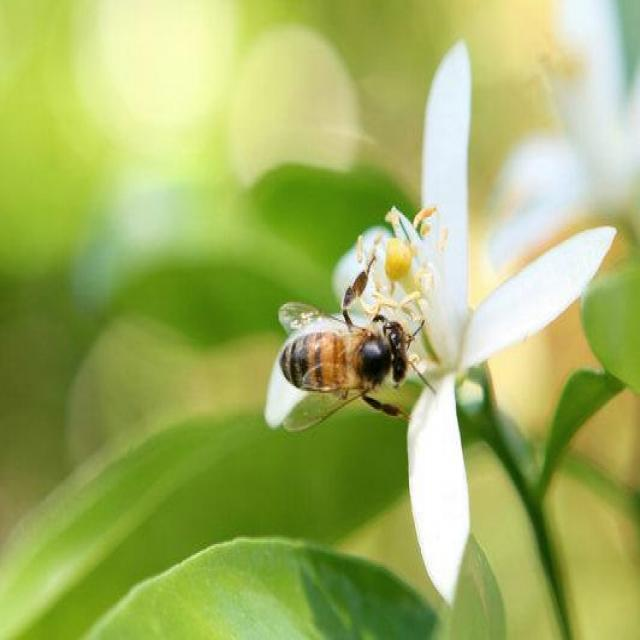Bunga: (254, 39, 614, 599)
